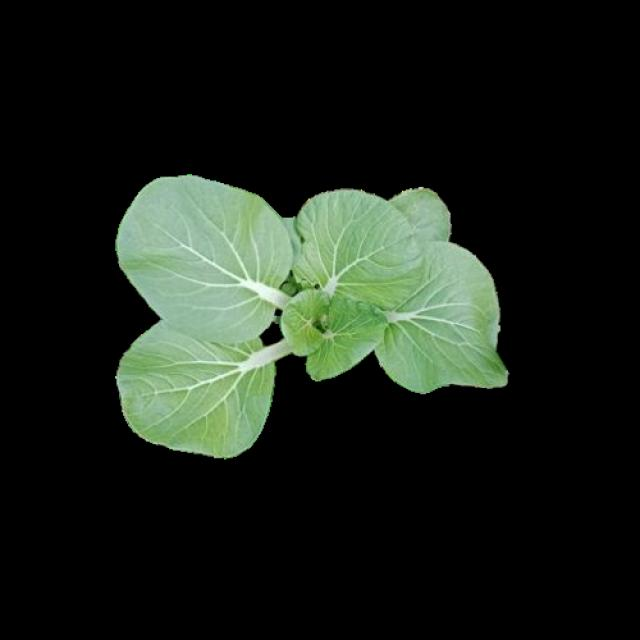healthy: (114, 176, 507, 454)
not-mature: (117, 178, 510, 457)
